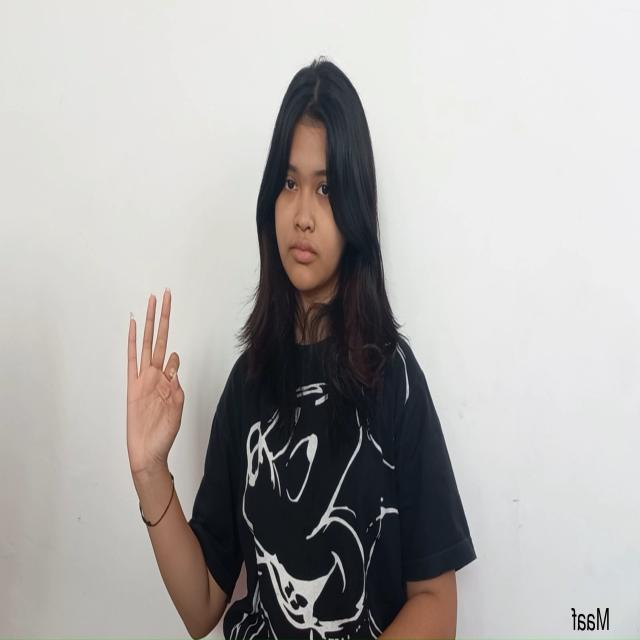Maaf -BISINDO-: (124, 283, 186, 495)
